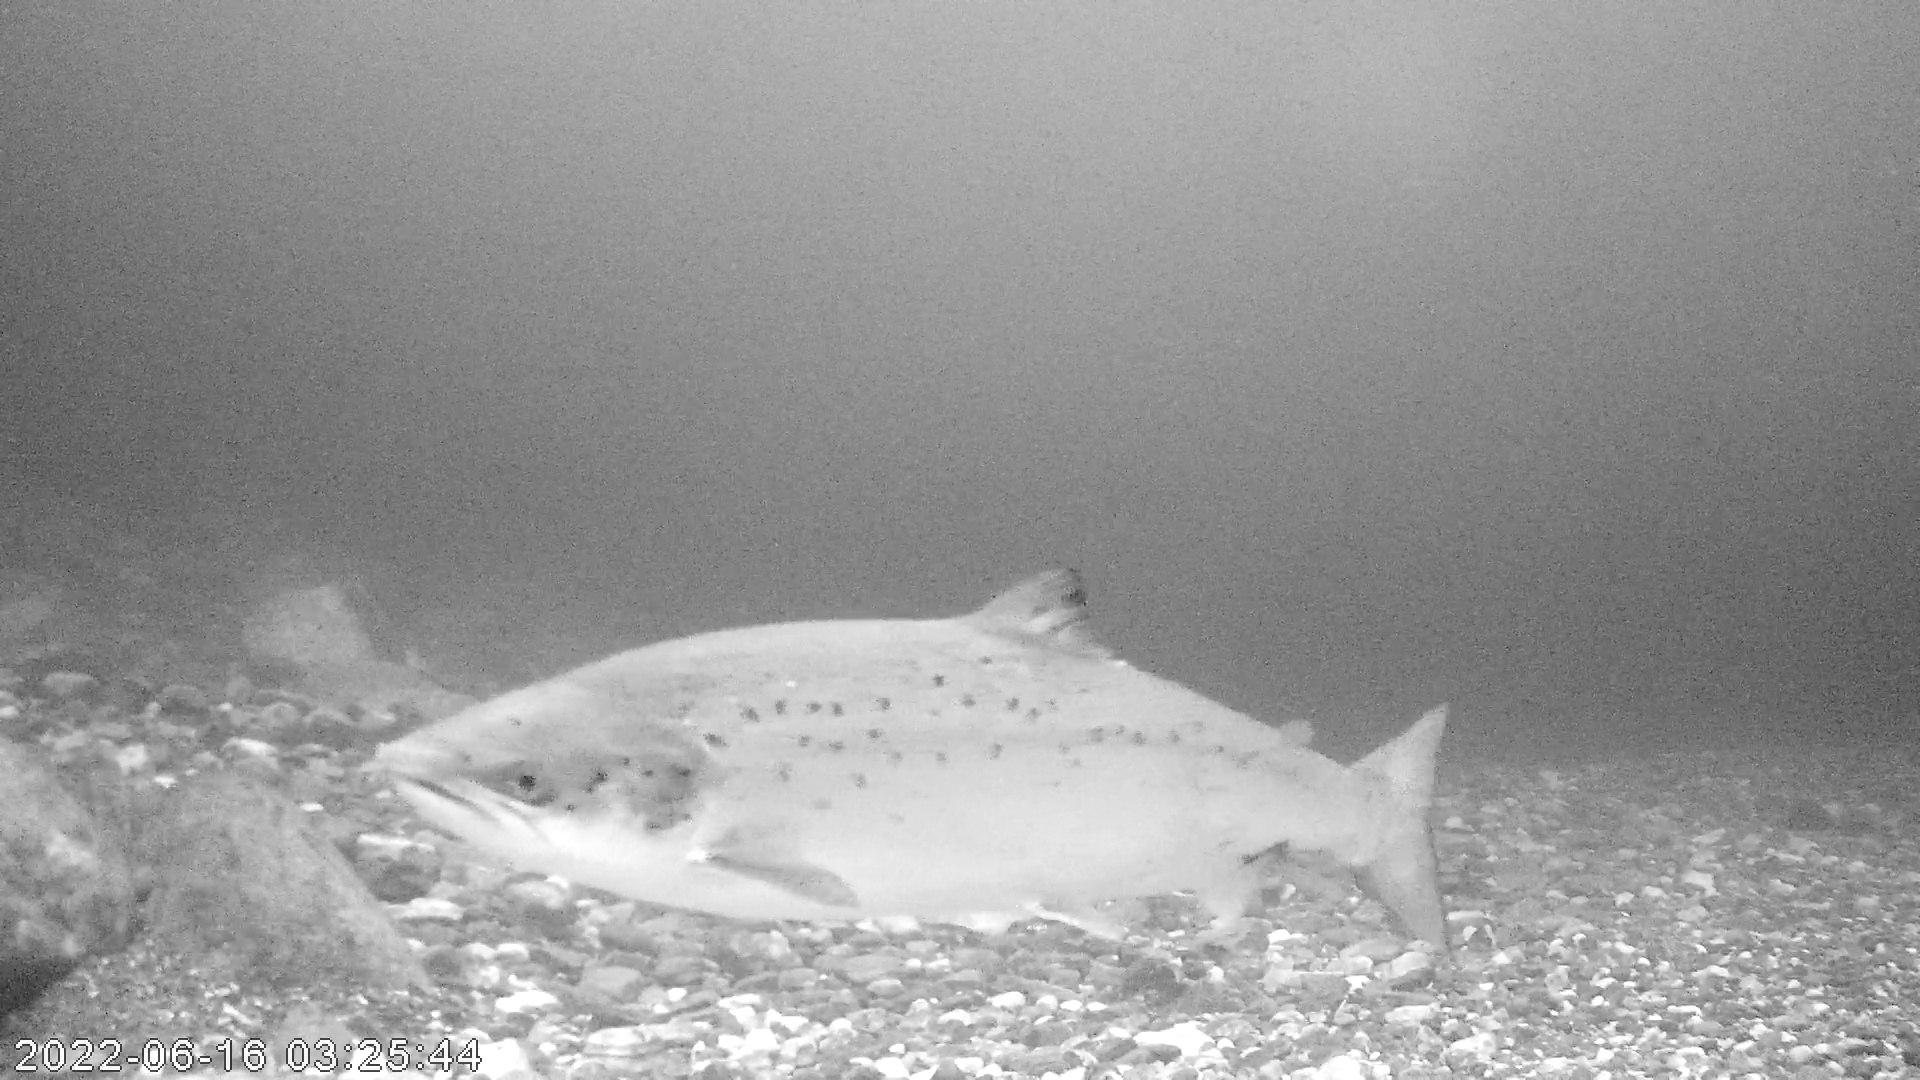salmon: (376, 564, 1453, 948)
